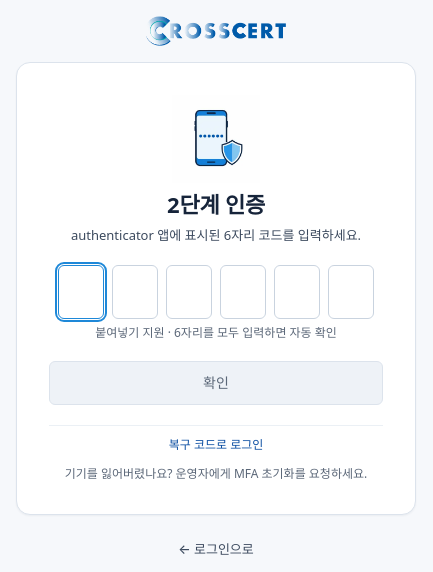
MfaChallenge V3 › 복구 코드 모드는 같은 카드 안에서 전환되고 대문자·대시로 정형한다
Click the button "복구 코드로 로그인". click: point(216, 445)
box: left=158, top=430, right=274, bottom=460
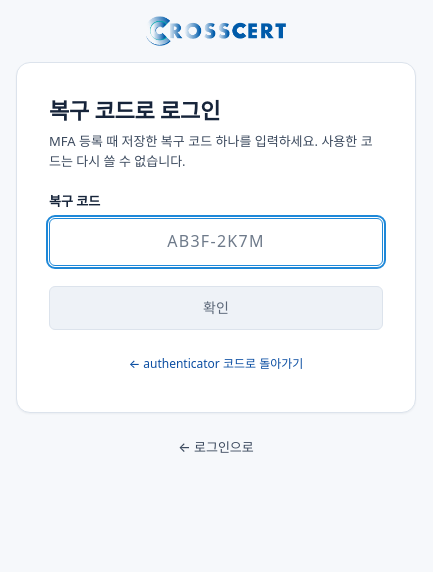
Expected: the heading "복구 코드로 로그인" is shown, left=49, top=95, right=220, bottom=125
Type "ab3f2k7m" into the field labelled "복구 코드". click: point(216, 242)
box: left=49, top=218, right=383, bottom=266
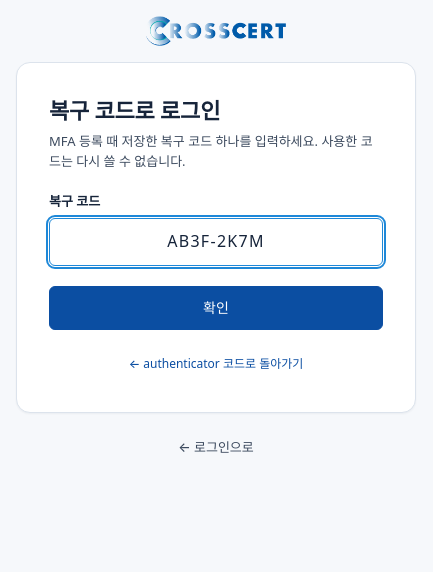
Expected: the field labelled "복구 코드" holds "AB3F-2K7M", left=49, top=218, right=383, bottom=266
